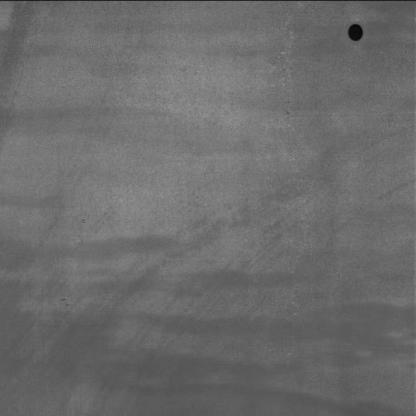punching_hole: (345, 21, 368, 43)
